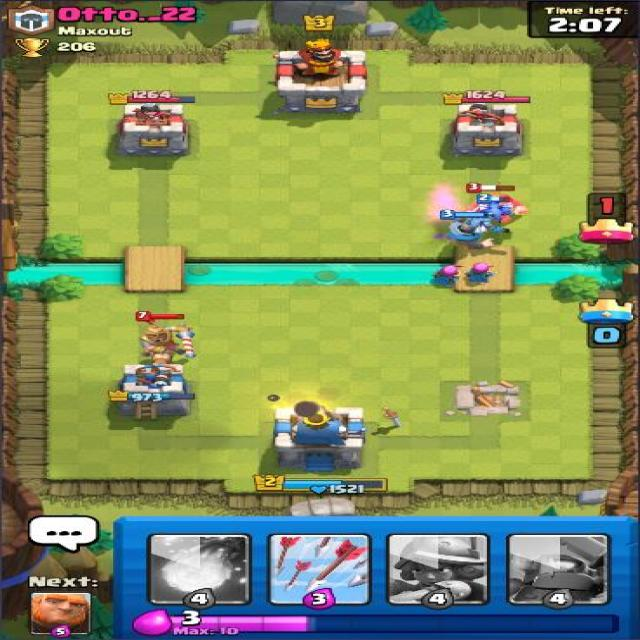Enemy-Knight: (464, 182, 529, 225)
Enemy-Prince: (134, 310, 198, 366)
Player-Archer: (464, 262, 496, 285), (433, 264, 461, 283)
Player-Knight: (438, 209, 498, 248)
Player-Minion: (475, 192, 515, 222)
